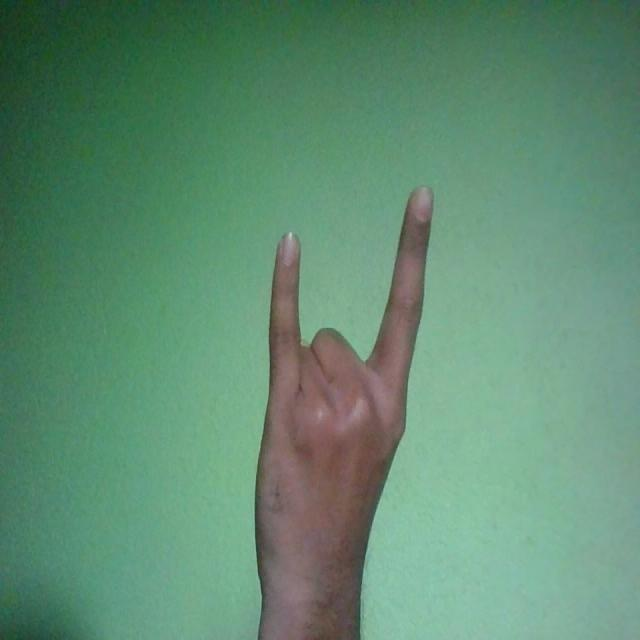open Plam: (254, 186, 436, 625)
